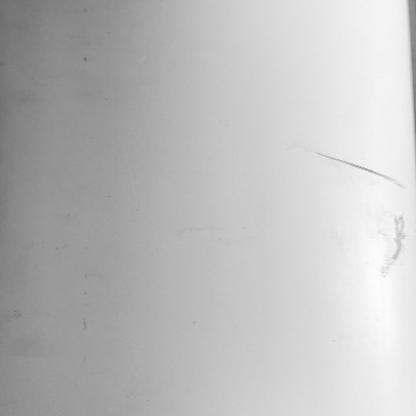sunshang: (312, 149, 407, 188), (373, 210, 411, 277)
